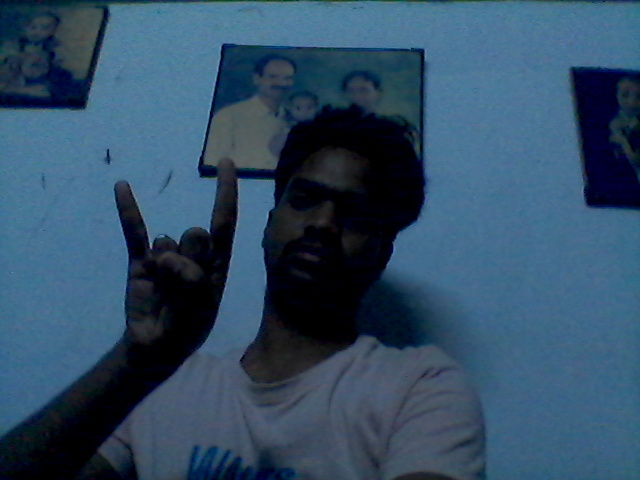I Love You: (99, 152, 248, 359)
